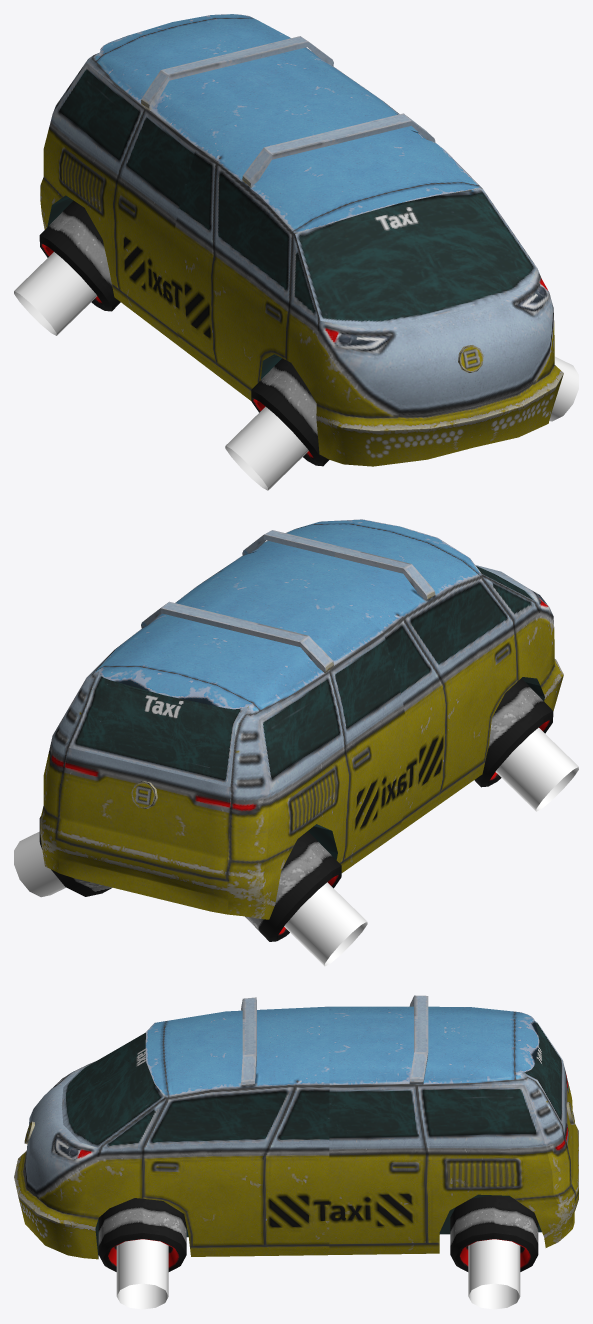
The model's file is VHC0310008.FBX.
3 renders of one model, top to bottom at view 1: azimuth 30°, elevation 25°; view 2: azimuth 150°, elevation 25°; view 3: azimuth 270°, elevation 25°, orthographic. The views are drawn at different scales.
Parts seen in each view (by area): view 1: smVHC0310008; view 2: smVHC0310008; view 3: smVHC0310008.
Boxes of the visible parts, x1=… form: smVHC0310008: x1=14, y1=14, x2=578, y2=490; smVHC0310008: x1=14, y1=519, x2=578, y2=966; smVHC0310008: x1=14, y1=995, x2=578, y2=1309.
Size of the model in its own units: 2.08 by 1.6 by 3.57.
2 materials, 2 textured.
